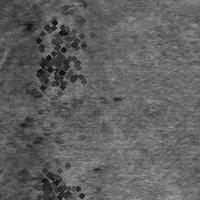rolled-in_scale: (5, 0, 105, 92), (9, 82, 82, 194), (22, 36, 86, 100), (22, 159, 76, 200), (48, 1, 88, 46)
